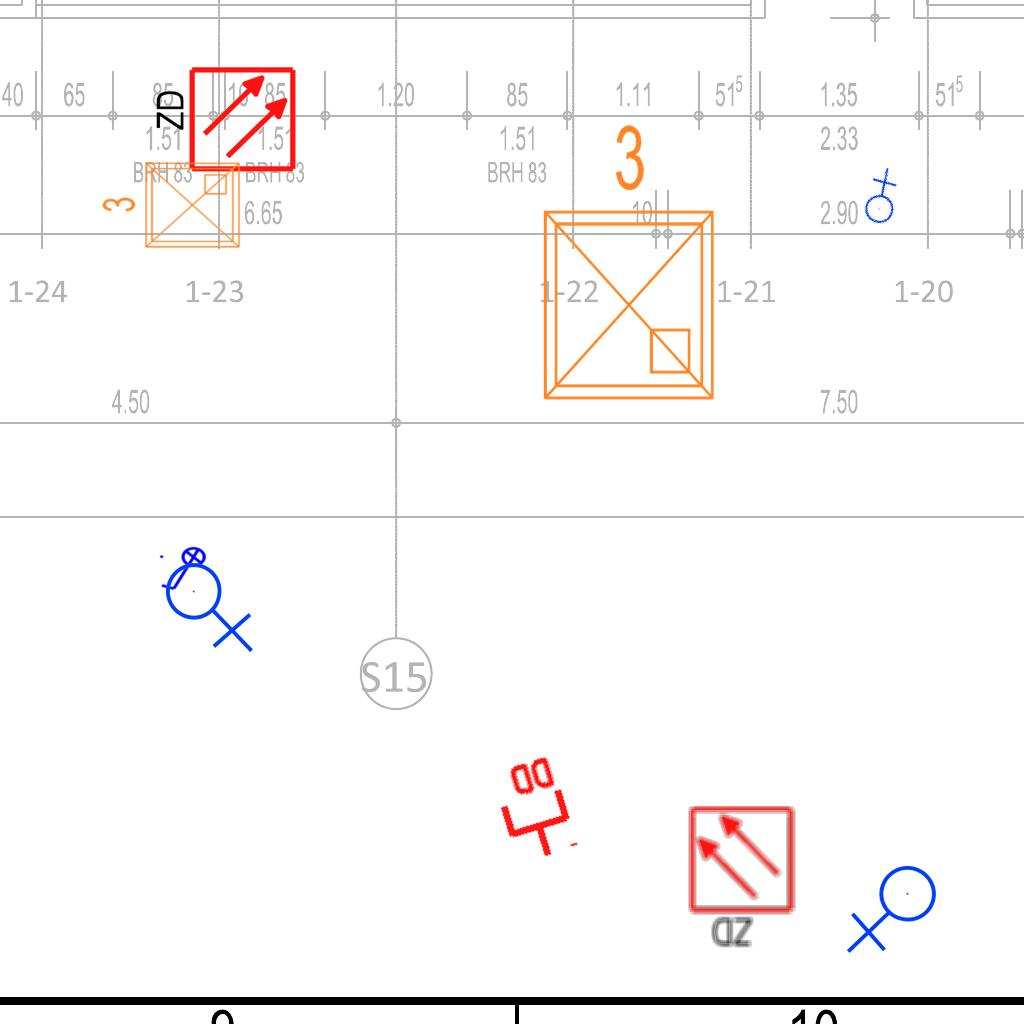Ausschalter_beleuchtet: (157, 546, 213, 594)
Datenanschluss_zweifach: (484, 750, 581, 869)
Einbaudownlights_LED_Konferenzraeume: (521, 114, 729, 414), (97, 155, 247, 259)
Elektroanschluss_allgemein_230V_Geraeteanschlussdose_230V: (846, 864, 945, 958), (164, 554, 258, 653), (846, 165, 913, 232)
ZD_Melder_in_Zwischendecke_mit_Revisionsoeffnung_mind_40_x_40_cm: (149, 64, 298, 178), (686, 804, 800, 953)
